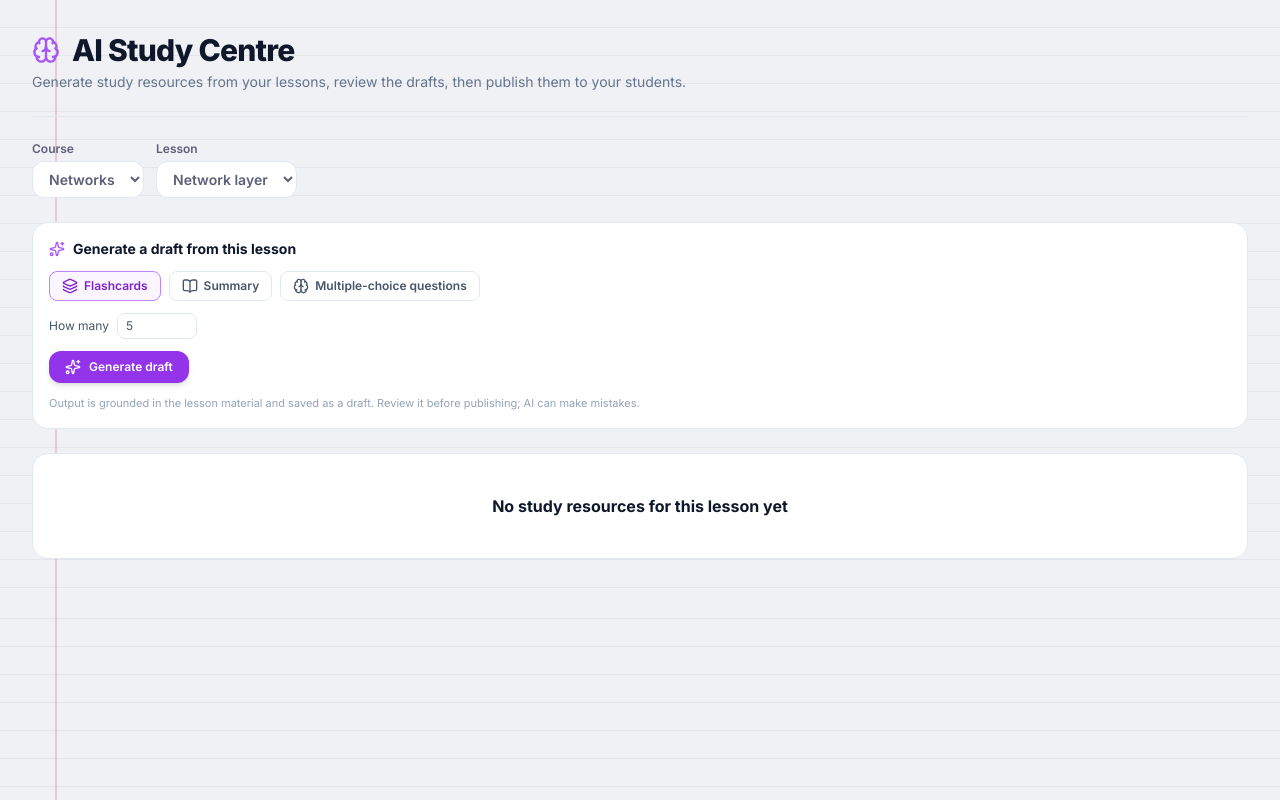
Test: StudyCentrePage (instructor) › shows AI provider failures from the backend
The image size is (1280, 800).
Expected: the heading "No study resources for this lesson yet" is shown, top-left (492, 496), bottom-right (788, 516)
Click the button "Generate draft" at (119, 367), box top-left (49, 351), bottom-right (189, 383)
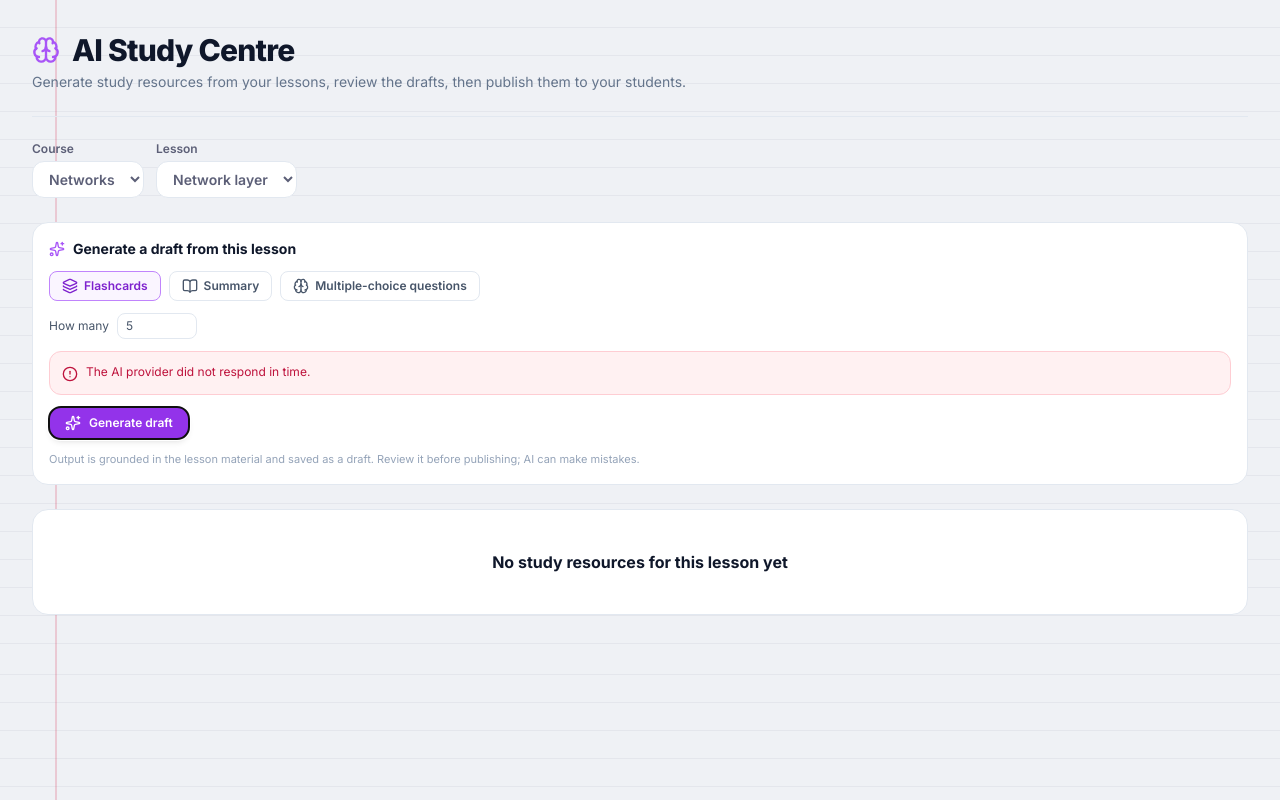
Result: the message reads "The AI provider did not respond in time." at top-left (86, 364), bottom-right (310, 379)
